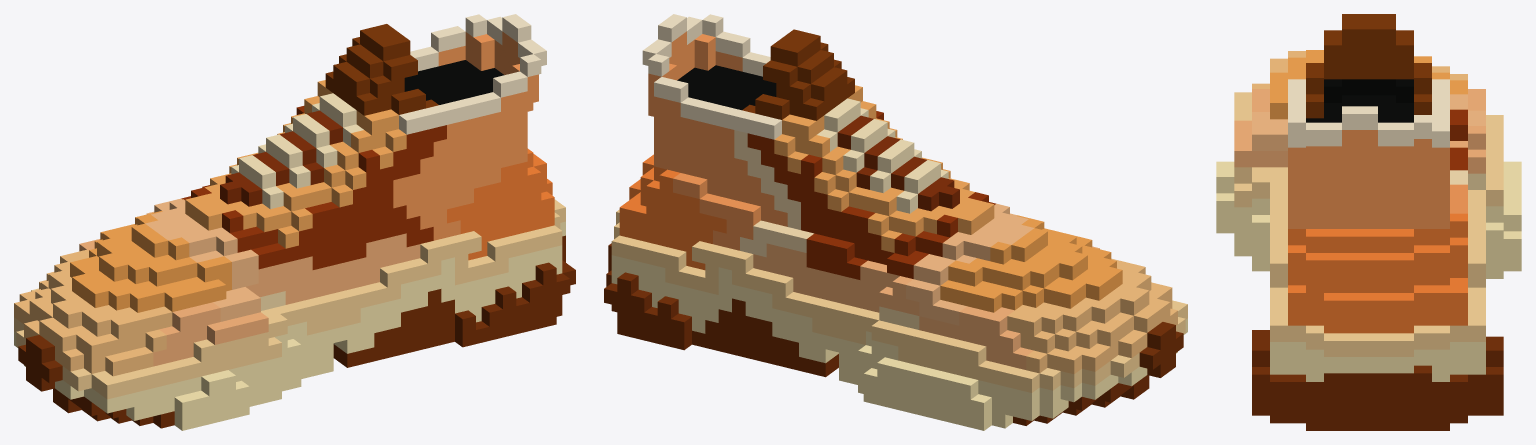
File: Magic Sand.fbx
The picture shows the model from 3 angles, left to right: view 1: azimuth 30°, elevation 25°; view 2: azimuth 150°, elevation 25°; view 3: azimuth 270°, elevation 25°; orthographic projection. The views are drawn at different scales.
Visible parts, largest first — view 1: Untitled; view 2: Untitled; view 3: Untitled.
Boxes of the visible parts, <box> form: Untitled: <box>14,14,575,430</box>; Untitled: <box>604,14,1187,430</box>; Untitled: <box>1216,14,1521,430</box>.
Size of the model in its own units: 390 by 200 by 170.
